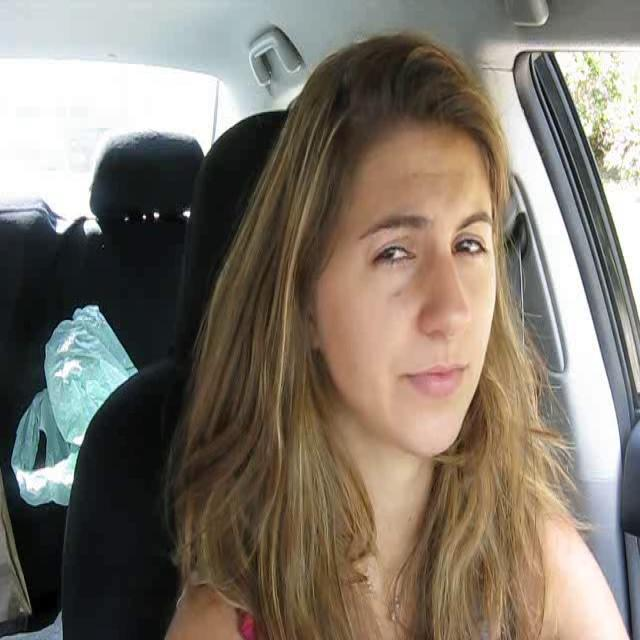close: (399, 357, 469, 404)
